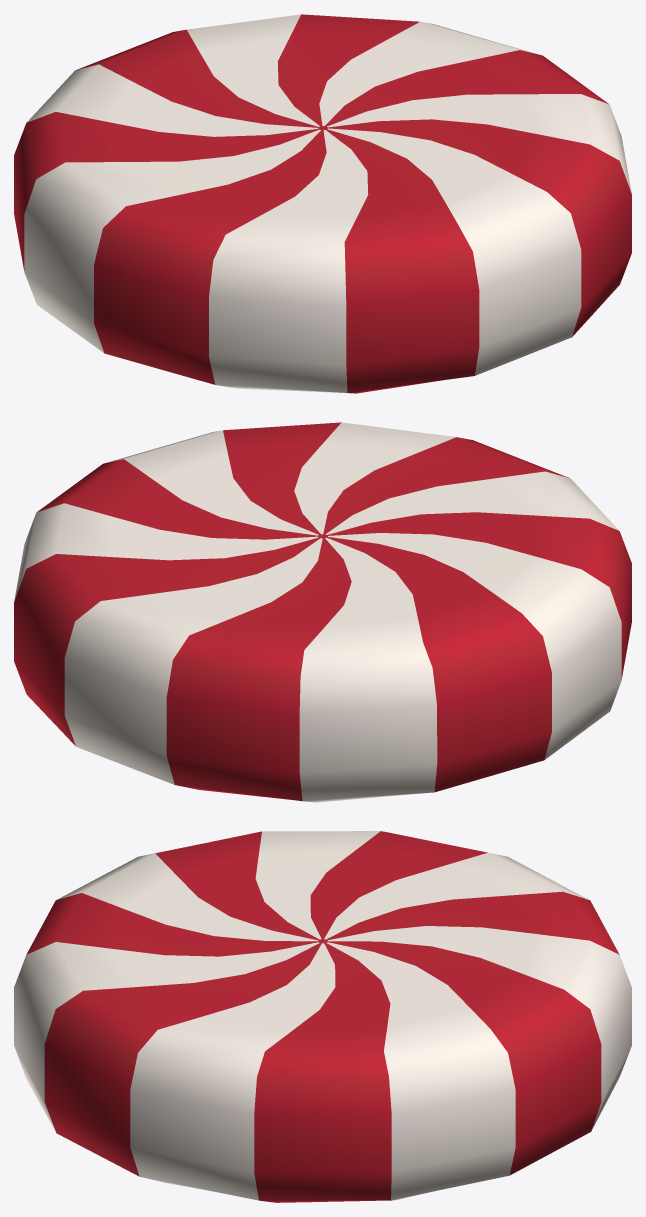
File: candy_hard_8.fbx
3 renders of one model, top to bottom at view 1: azimuth 30°, elevation 25°; view 2: azimuth 150°, elevation 25°; view 3: azimuth 270°, elevation 25°, orthographic.
Parts seen in each view (by area): view 1: c_h_8; view 2: c_h_8; view 3: c_h_8.
Boxes of the visible parts, bbox=[...] form: c_h_8: bbox=[14, 14, 631, 393]; c_h_8: bbox=[14, 422, 631, 802]; c_h_8: bbox=[14, 831, 631, 1202].
Bounding box in the file's own units: 156 × 42.99 × 160.
